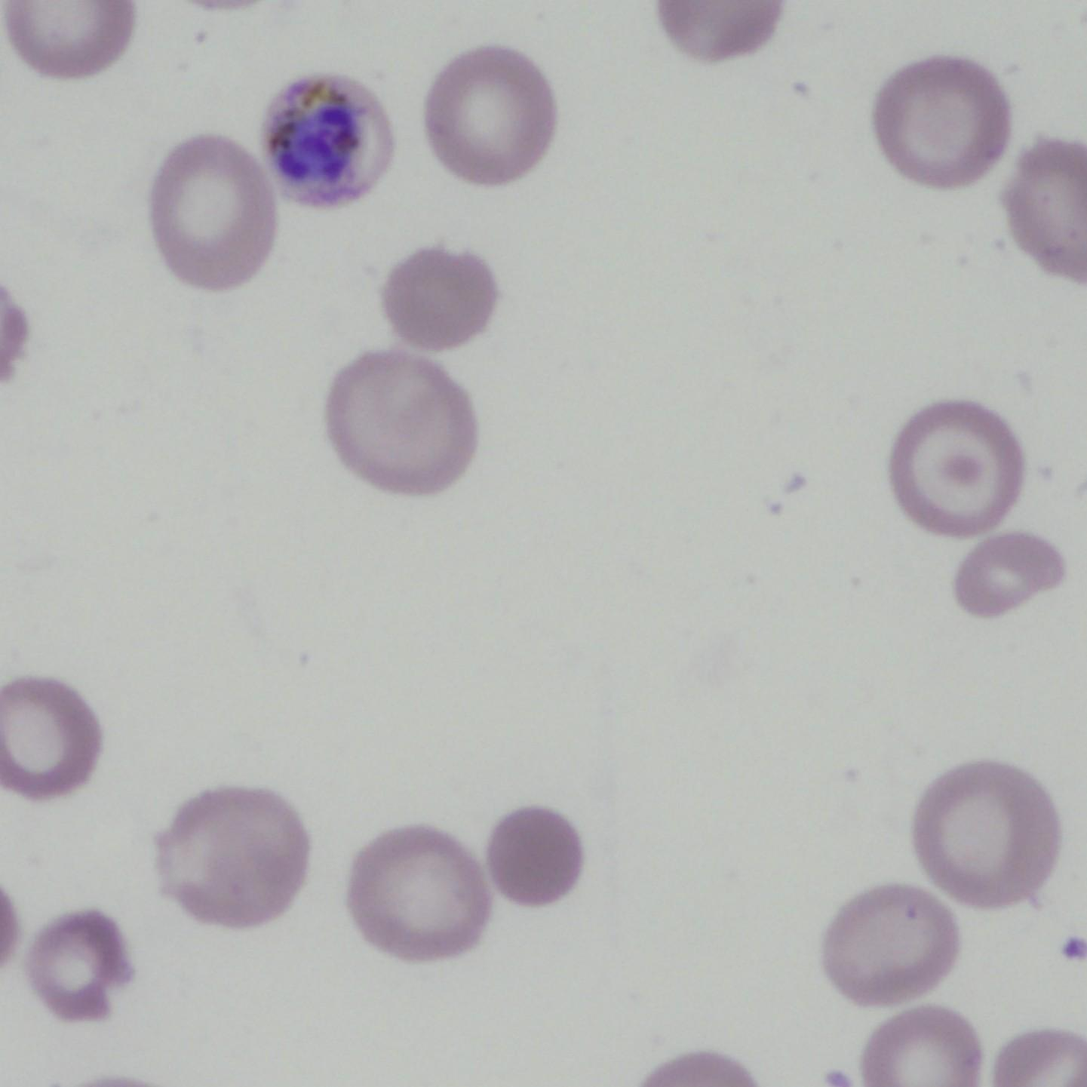Infected: (261, 71, 396, 205)
Uninfected: (911, 760, 1058, 907), (324, 350, 477, 491), (157, 788, 310, 927), (147, 135, 278, 286), (345, 827, 492, 959), (420, 45, 559, 182), (870, 54, 1012, 188), (889, 400, 1027, 536), (822, 884, 960, 1005), (0, 677, 104, 798), (380, 244, 497, 348), (26, 909, 131, 1019), (1002, 143, 1085, 279), (951, 529, 1064, 619), (487, 805, 585, 904)
